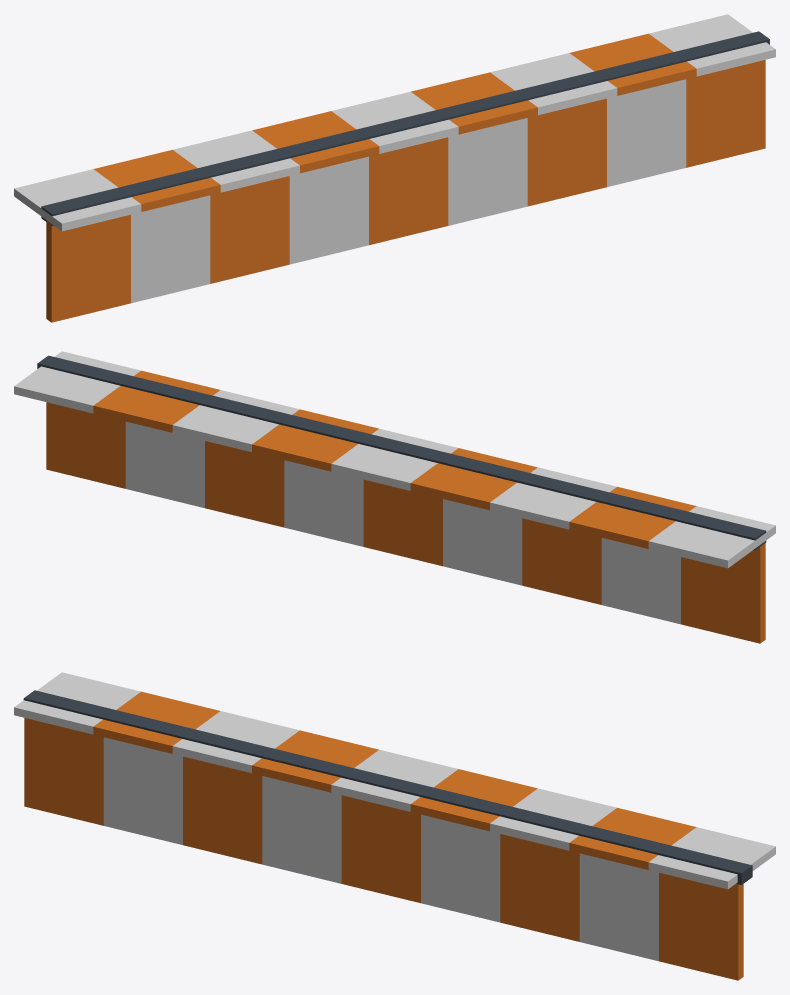
The model's file is overlay_1.fbx.
The picture shows the model from 3 angles, top to bottom: view 1: azimuth 30°, elevation 25°; view 2: azimuth 150°, elevation 25°; view 3: azimuth 330°, elevation 25°; orthographic projection.
Parts seen in each view (by area): view 1: overlay_1; view 2: overlay_1; view 3: overlay_1.
Part boxes in pixels (bbox=[...]): overlay_1: bbox=[14, 14, 775, 322]; overlay_1: bbox=[14, 351, 775, 643]; overlay_1: bbox=[14, 672, 775, 980].
Bounding box in the file's own units: 3.8 × 0.55 × 0.44.
